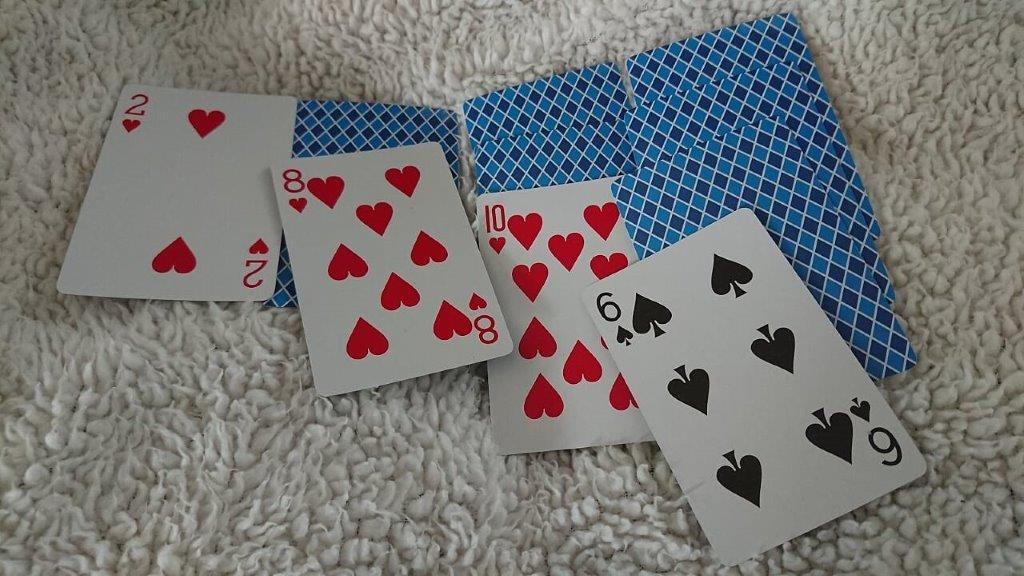10H: (479, 195, 513, 260)
2H: (117, 86, 156, 142)
6S: (589, 285, 639, 354)
8H: (278, 162, 318, 221)
BACK: (610, 116, 836, 206), (623, 61, 824, 118), (626, 12, 817, 60), (463, 61, 623, 117), (473, 118, 623, 175), (297, 98, 461, 140)
